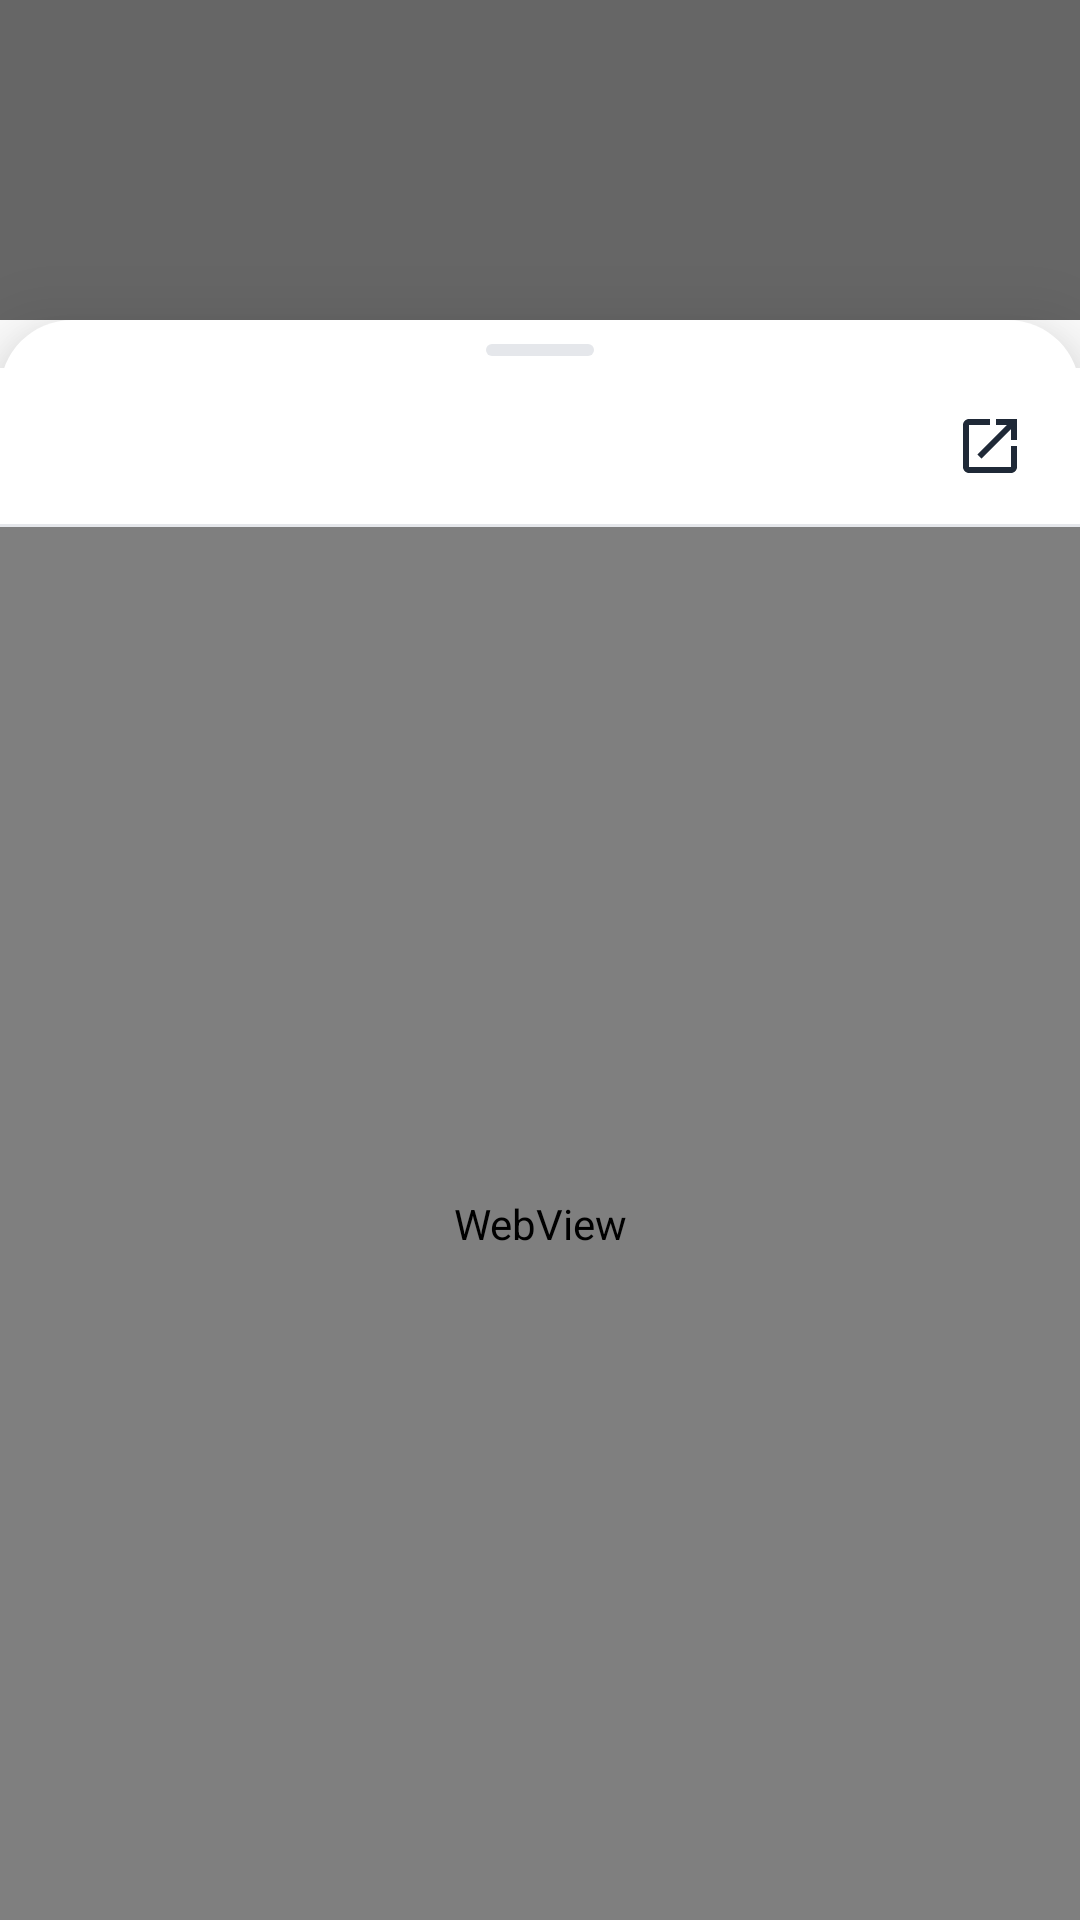

Icons on this 1080px×1920px Android screen, each with the point to tap as [x,y]:
Open in browser: [990,446]
